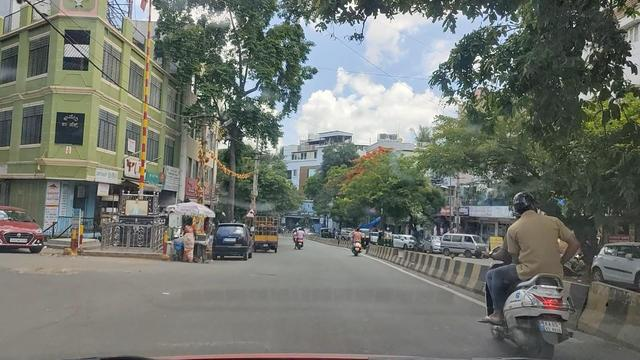LMV: (488, 206, 573, 355), (217, 226, 252, 254)
